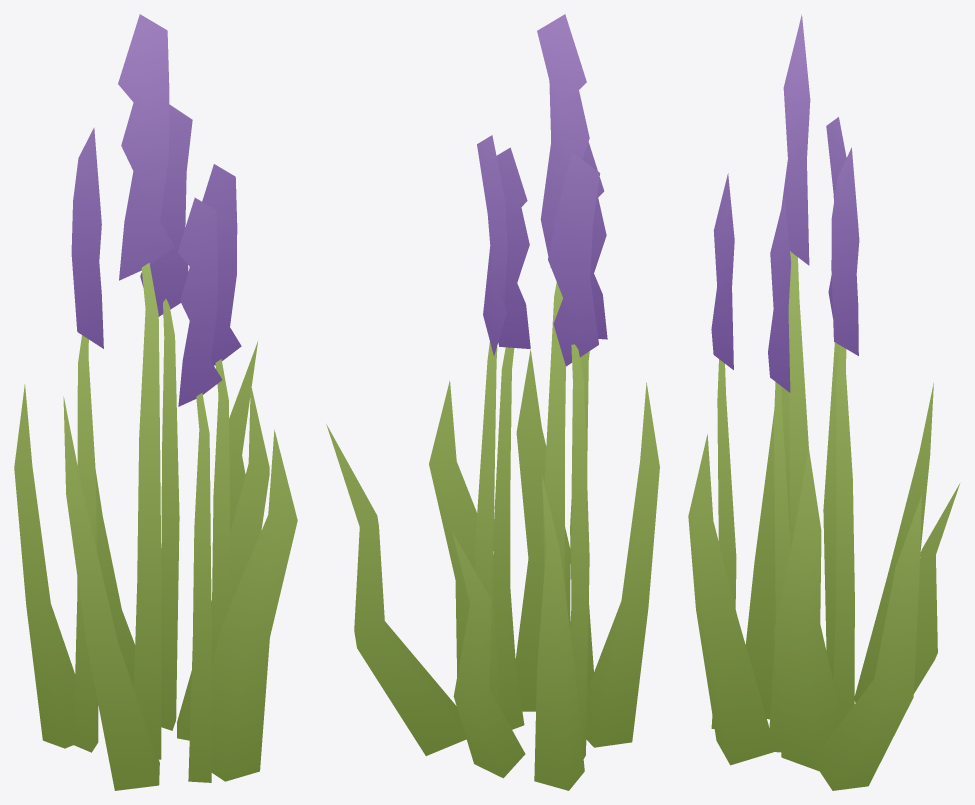
Rendered from Flower_05.glb.
The picture shows the model from 3 angles, left to right: view 1: azimuth 30°, elevation 25°; view 2: azimuth 150°, elevation 25°; view 3: azimuth 270°, elevation 25°; orthographic projection. The views are drawn at different scales.
Parts seen in each view (by area): view 1: Flower_05_LOD0; view 2: Flower_05_LOD0; view 3: Flower_05_LOD0.
Part boxes in pixels (x1,y1,x2,y2): Flower_05_LOD0: (14,14,297,790); Flower_05_LOD0: (326,14,659,790); Flower_05_LOD0: (688,14,959,790).
Size of what is drawn, in the model's own units: 0.1755 by 0.4774 by 0.1631.
Materials: 1 (1 with a texture image).
